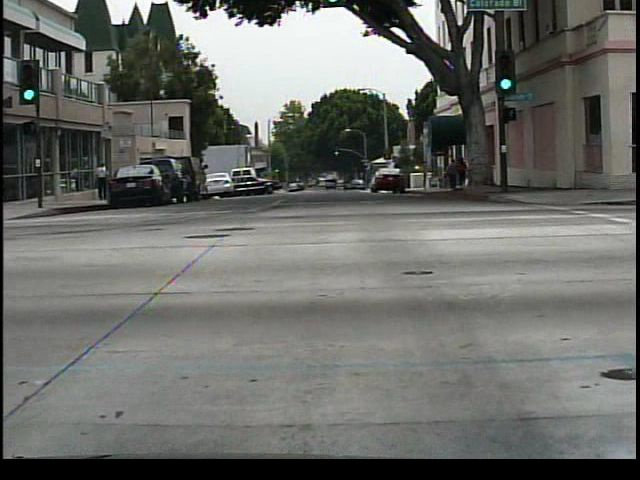person: (96, 155, 110, 205), (442, 159, 460, 193), (463, 154, 464, 195)
